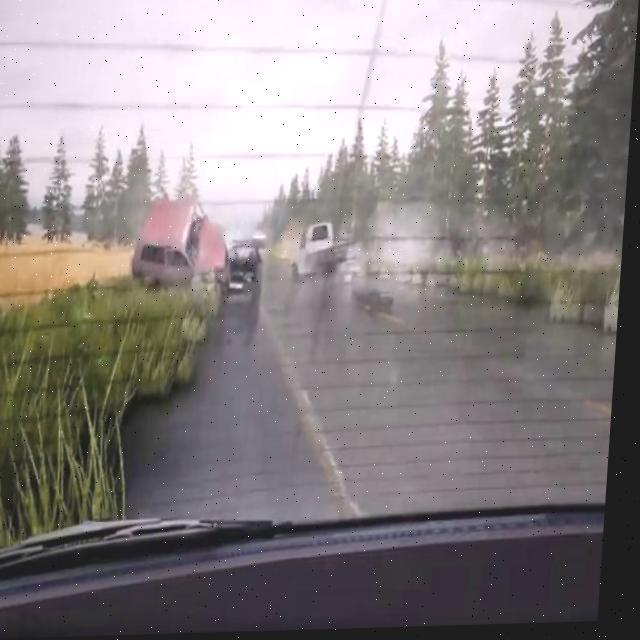multiple_accident: (113, 197, 276, 336)
